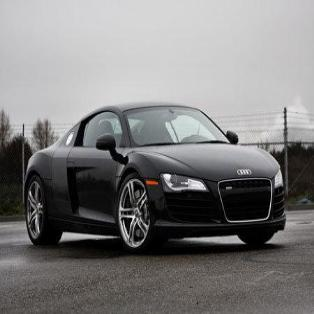Auto: (22, 100, 288, 256)
